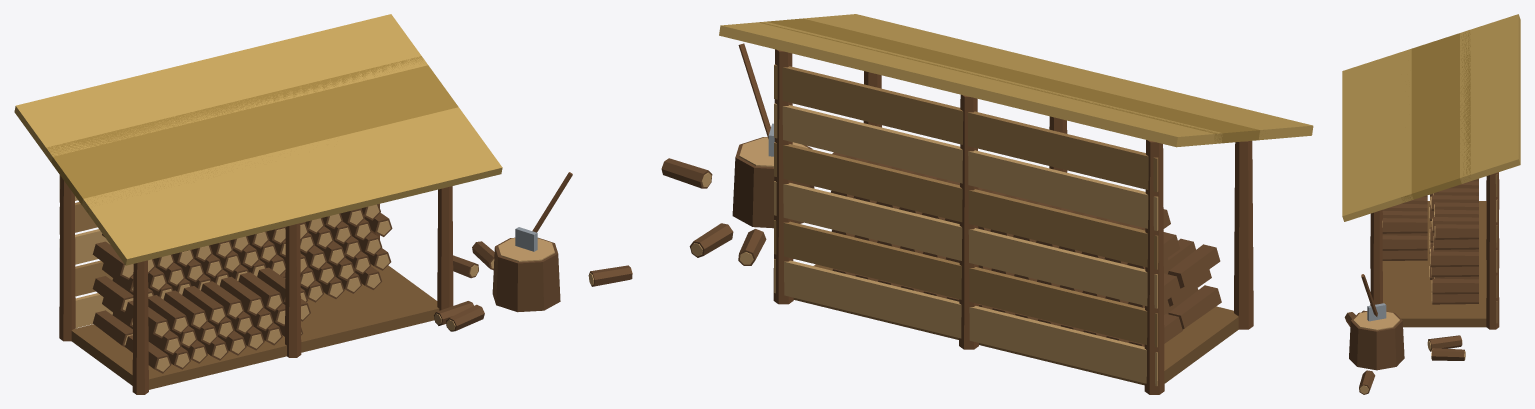
The model's file is annex_woodshed.glb.
3 views of the same model, side by side, from view 1: azimuth 30°, elevation 25°; view 2: azimuth 150°, elevation 25°; view 3: azimuth 270°, elevation 25° (orthographic). The views are drawn at different scales.
Parts seen in each view (by area): view 1: annex_woodshed; view 2: annex_woodshed; view 3: annex_woodshed.
Boxes of the visible parts, <box> form: annex_woodshed: <box>14,14,632,394</box>; annex_woodshed: <box>661,14,1313,394</box>; annex_woodshed: <box>1342,14,1520,394</box>.
Bounding box in the file's own units: 5.1 × 2.16 × 1.92.
